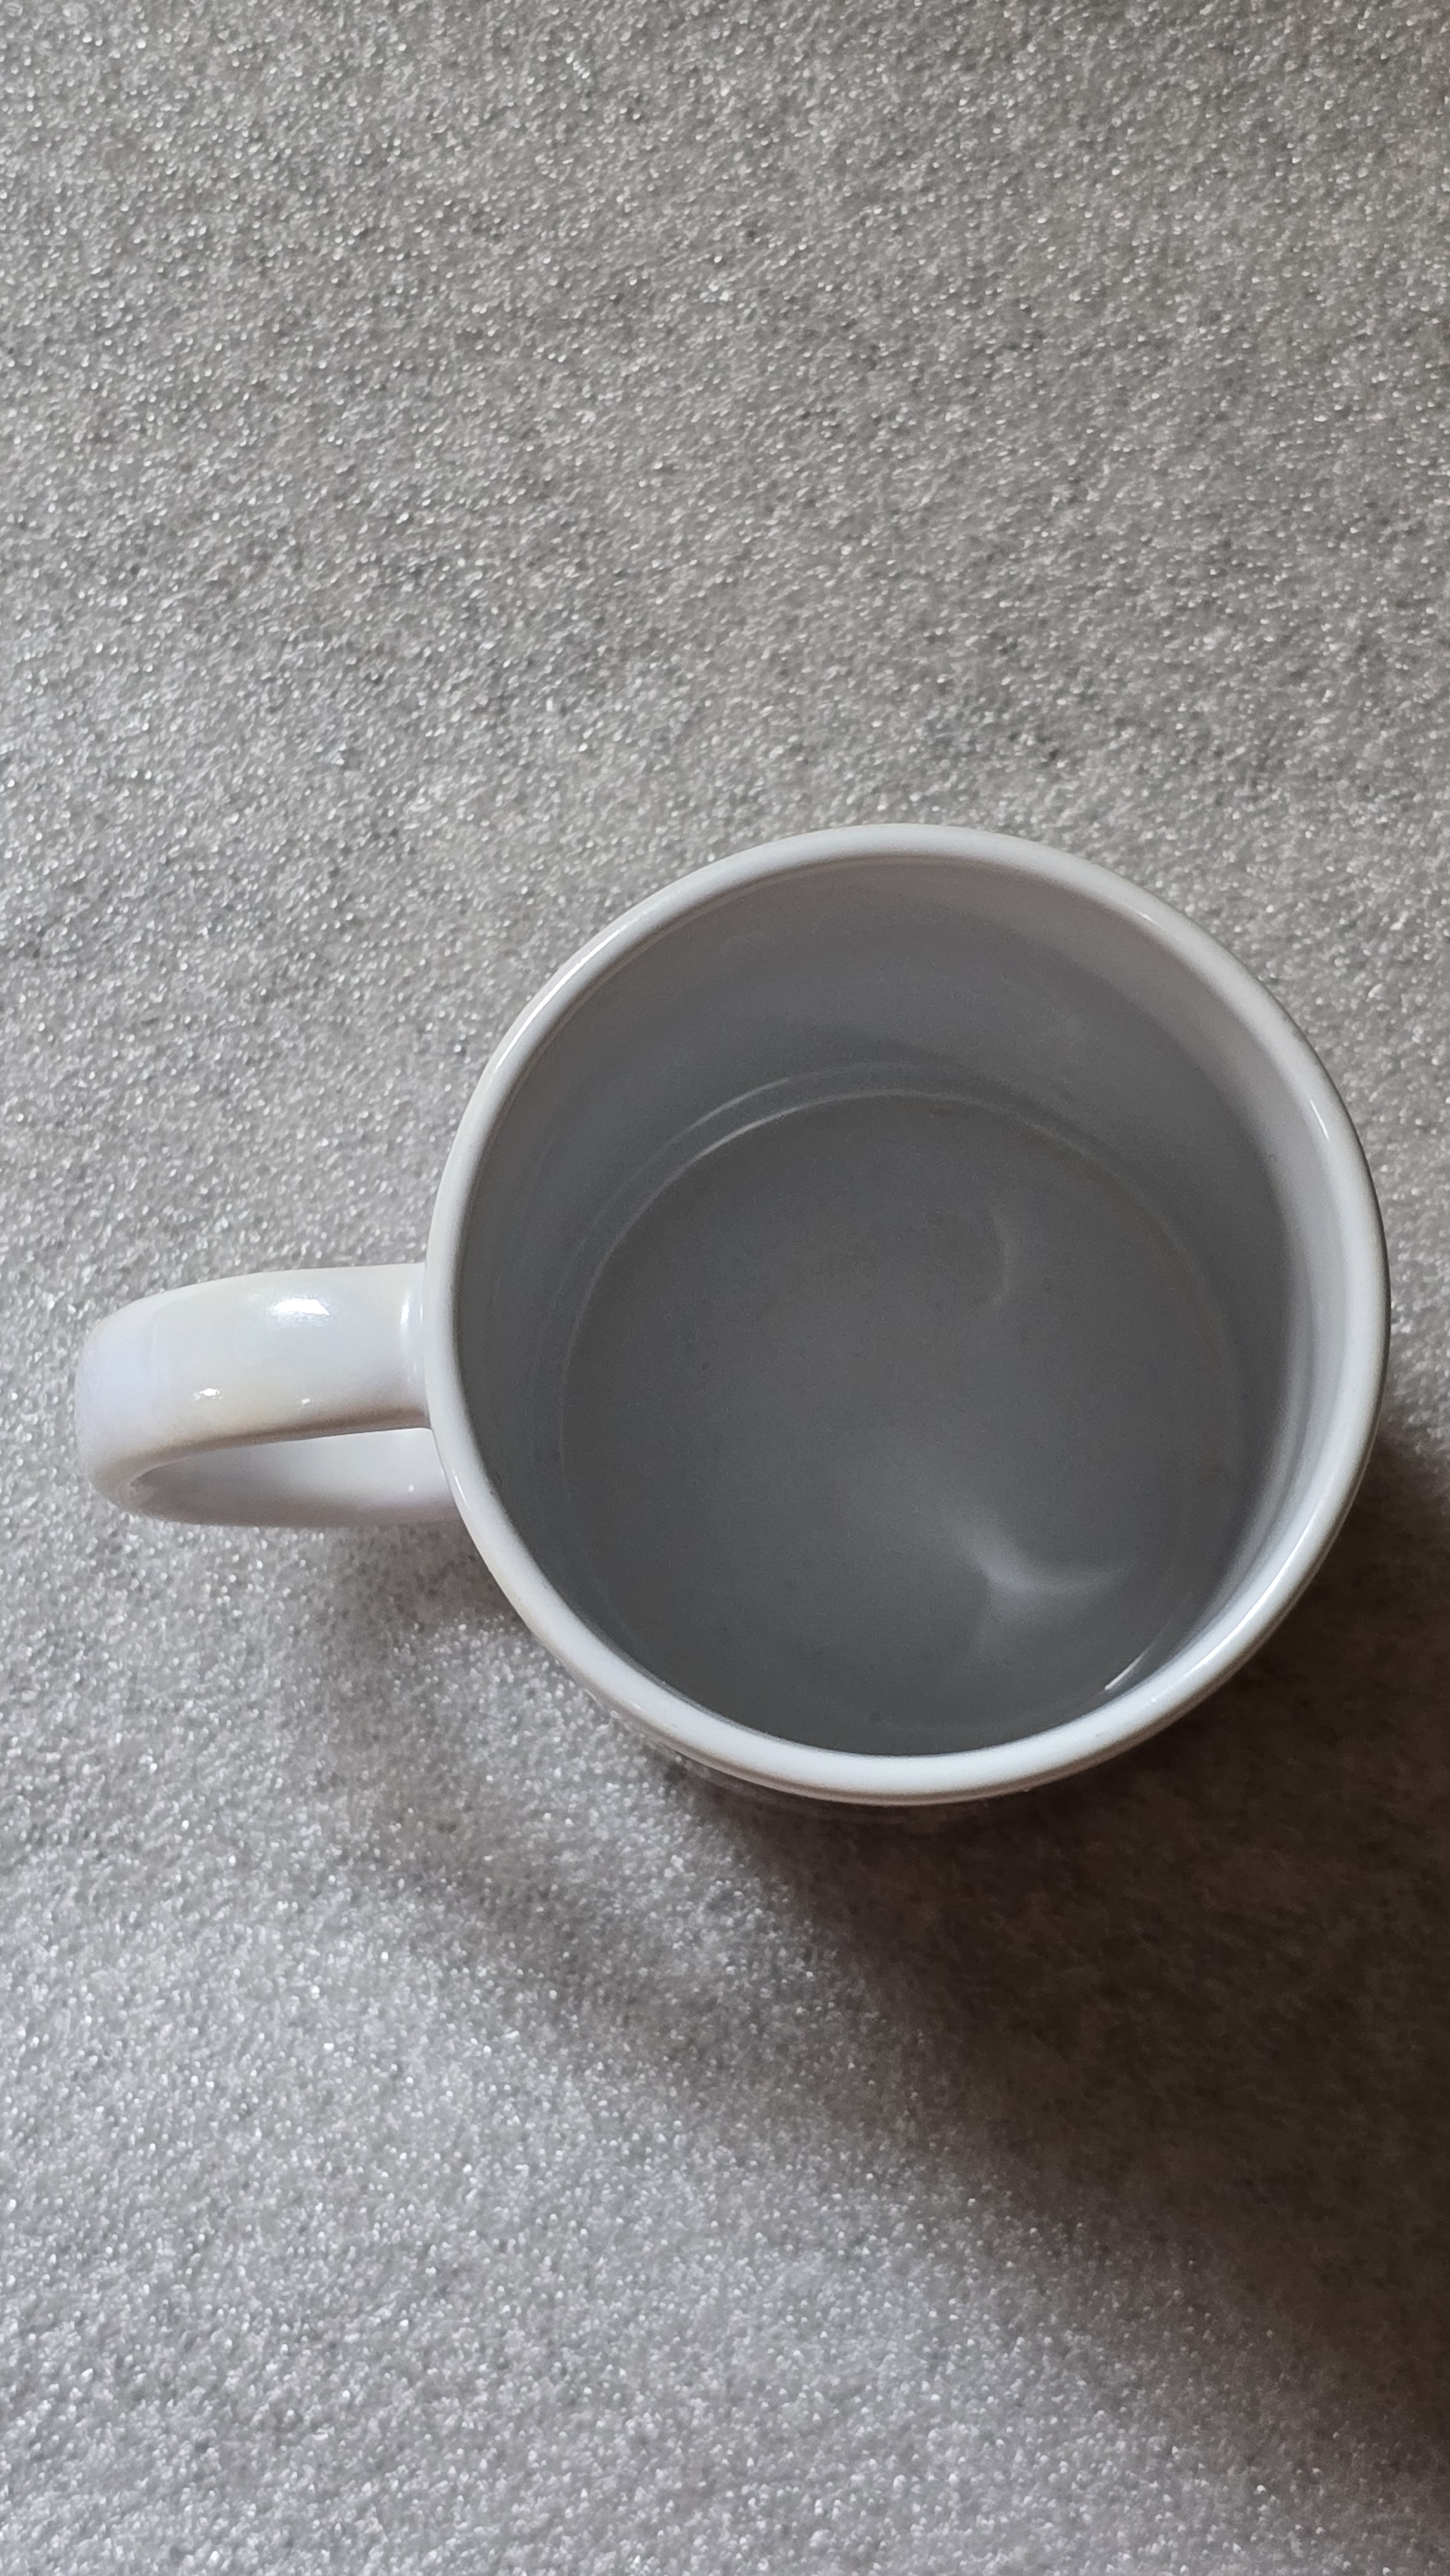mug: (60, 794, 1436, 1861)
